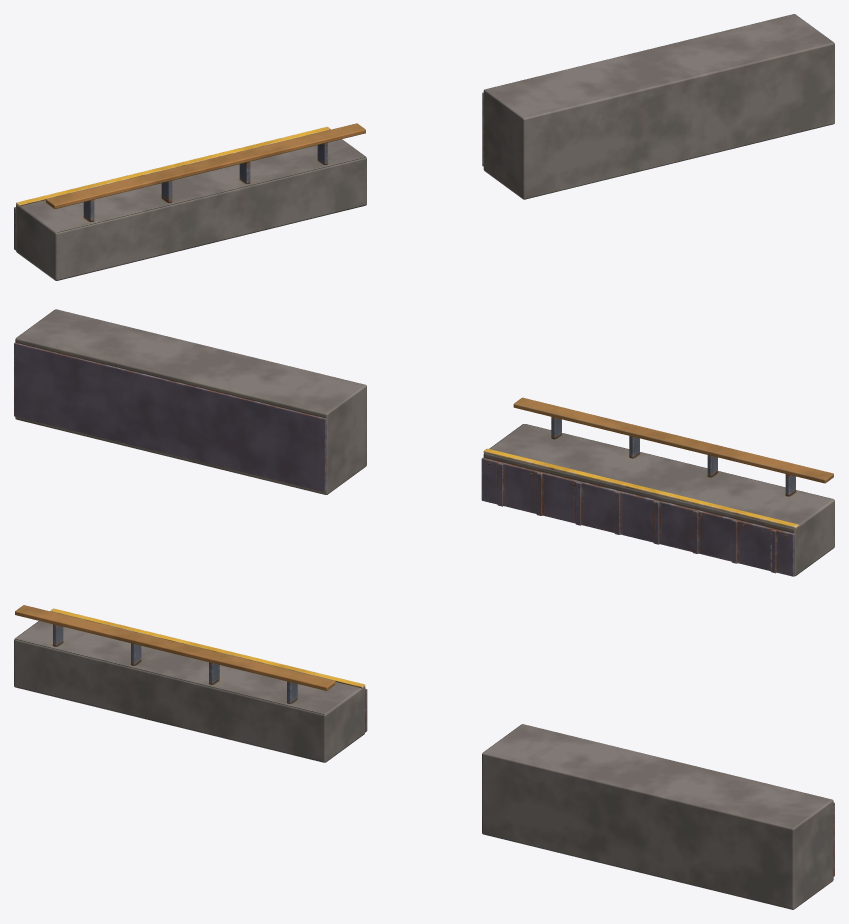
The model's file is arena_stand.glb.
3 views of the same model, one above another, from view 1: azimuth 30°, elevation 25°; view 2: azimuth 150°, elevation 25°; view 3: azimuth 330°, elevation 25° (orthographic).
Visible parts, largest first — view 1: fill, step; view 2: fill, step; view 3: fill, step.
Part boxes in pixels (x1,y1,x2,y2): fill: (482,14,834,199); step: (14,123,366,280); fill: (14,309,366,494); step: (481,397,834,576); fill: (482,724,834,909); step: (14,605,367,762).
Bounding box in the file's own units: 10 × 1.33 × 0.955.
Materials: 1 (1 with a texture image).
